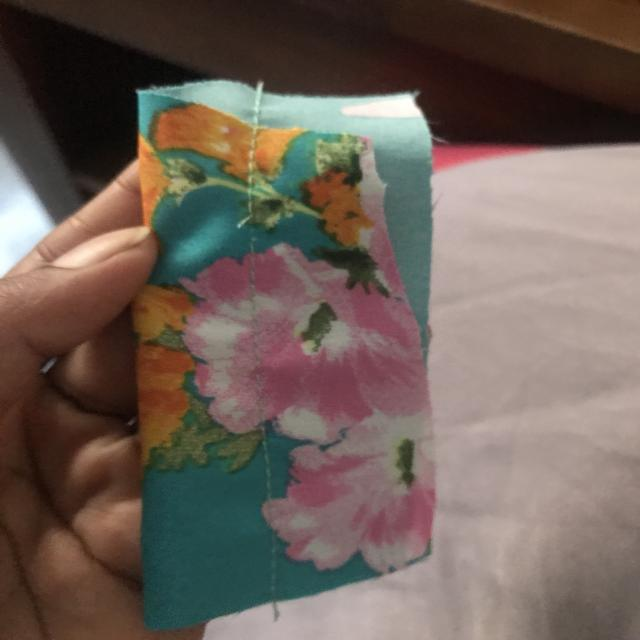broken: (235, 204, 268, 247)
